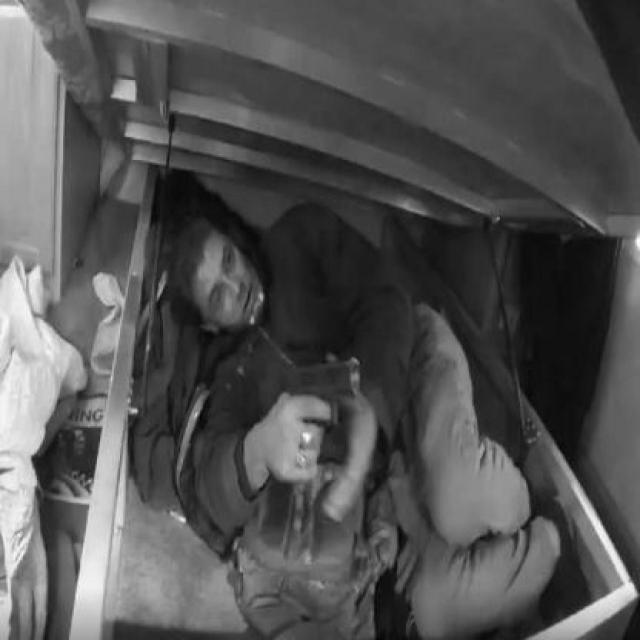weapon: (262, 352, 362, 468)
